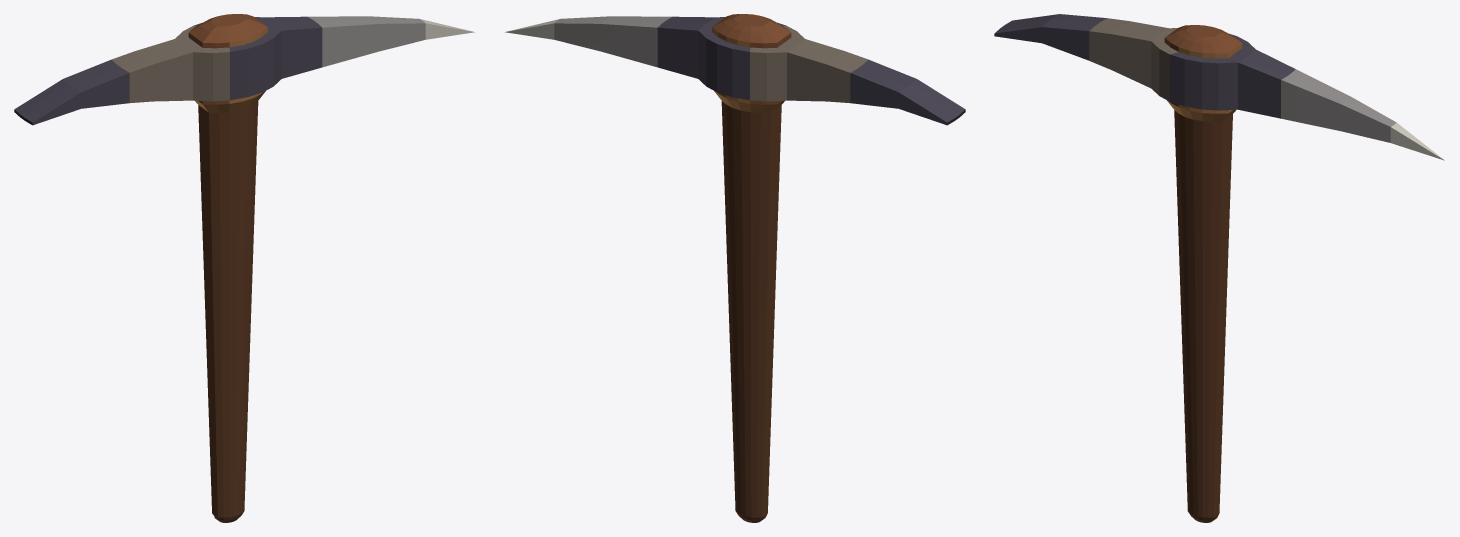
File: metal_pickaxes.glb
3 renders of one model, left to right at view 1: azimuth 30°, elevation 25°; view 2: azimuth 150°, elevation 25°; view 3: azimuth 330°, elevation 25°, orthographic. The views are drawn at different scales.
Visible parts, largest first — view 1: Handle.013; view 2: Handle.013; view 3: Handle.013.
Boxes of the visible parts, x1,y1,x2,y2 form: Handle.013: (14, 14, 474, 522); Handle.013: (505, 14, 965, 522); Handle.013: (994, 14, 1444, 522).
Size of the model in its own units: 0.6645 by 0.7 by 0.0981.
